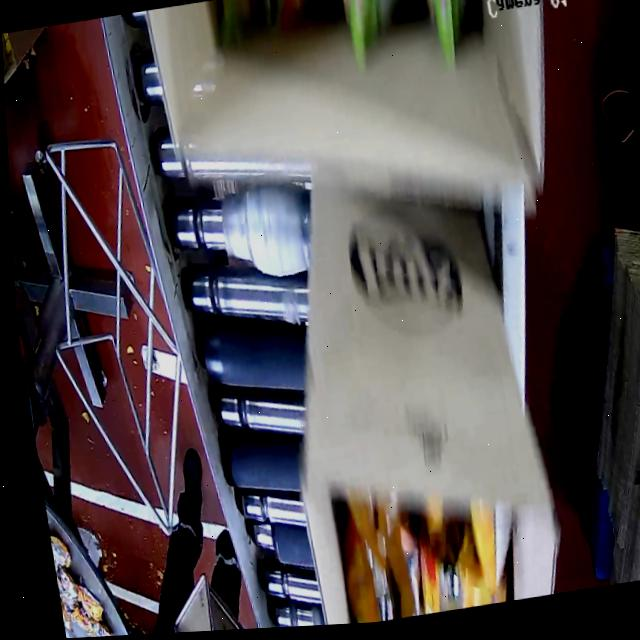FRENCH_CHEESE: (331, 469, 529, 624)
